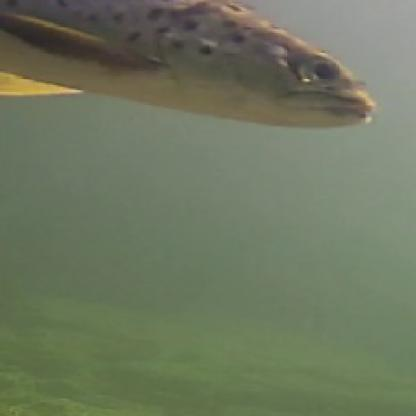salmon: (0, 0, 382, 132)
